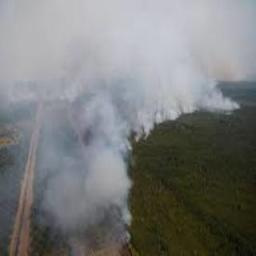Low smoke: (0, 28, 248, 255)
